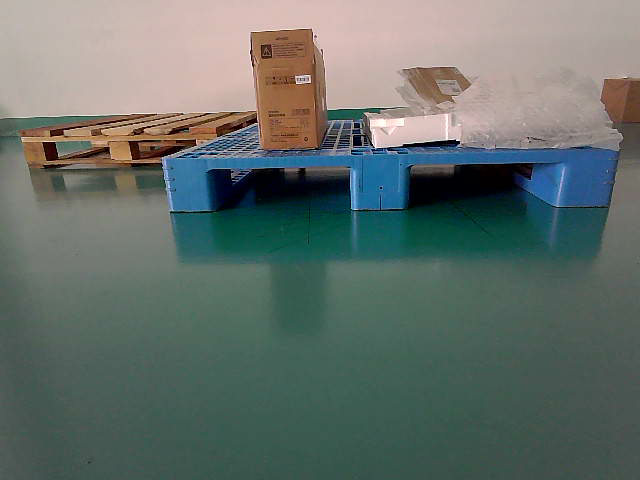block: (351, 152, 409, 214), (554, 149, 617, 206), (163, 155, 212, 214)
front: (165, 148, 622, 212)
hole pallet: (405, 163, 564, 212), (211, 167, 353, 211)
